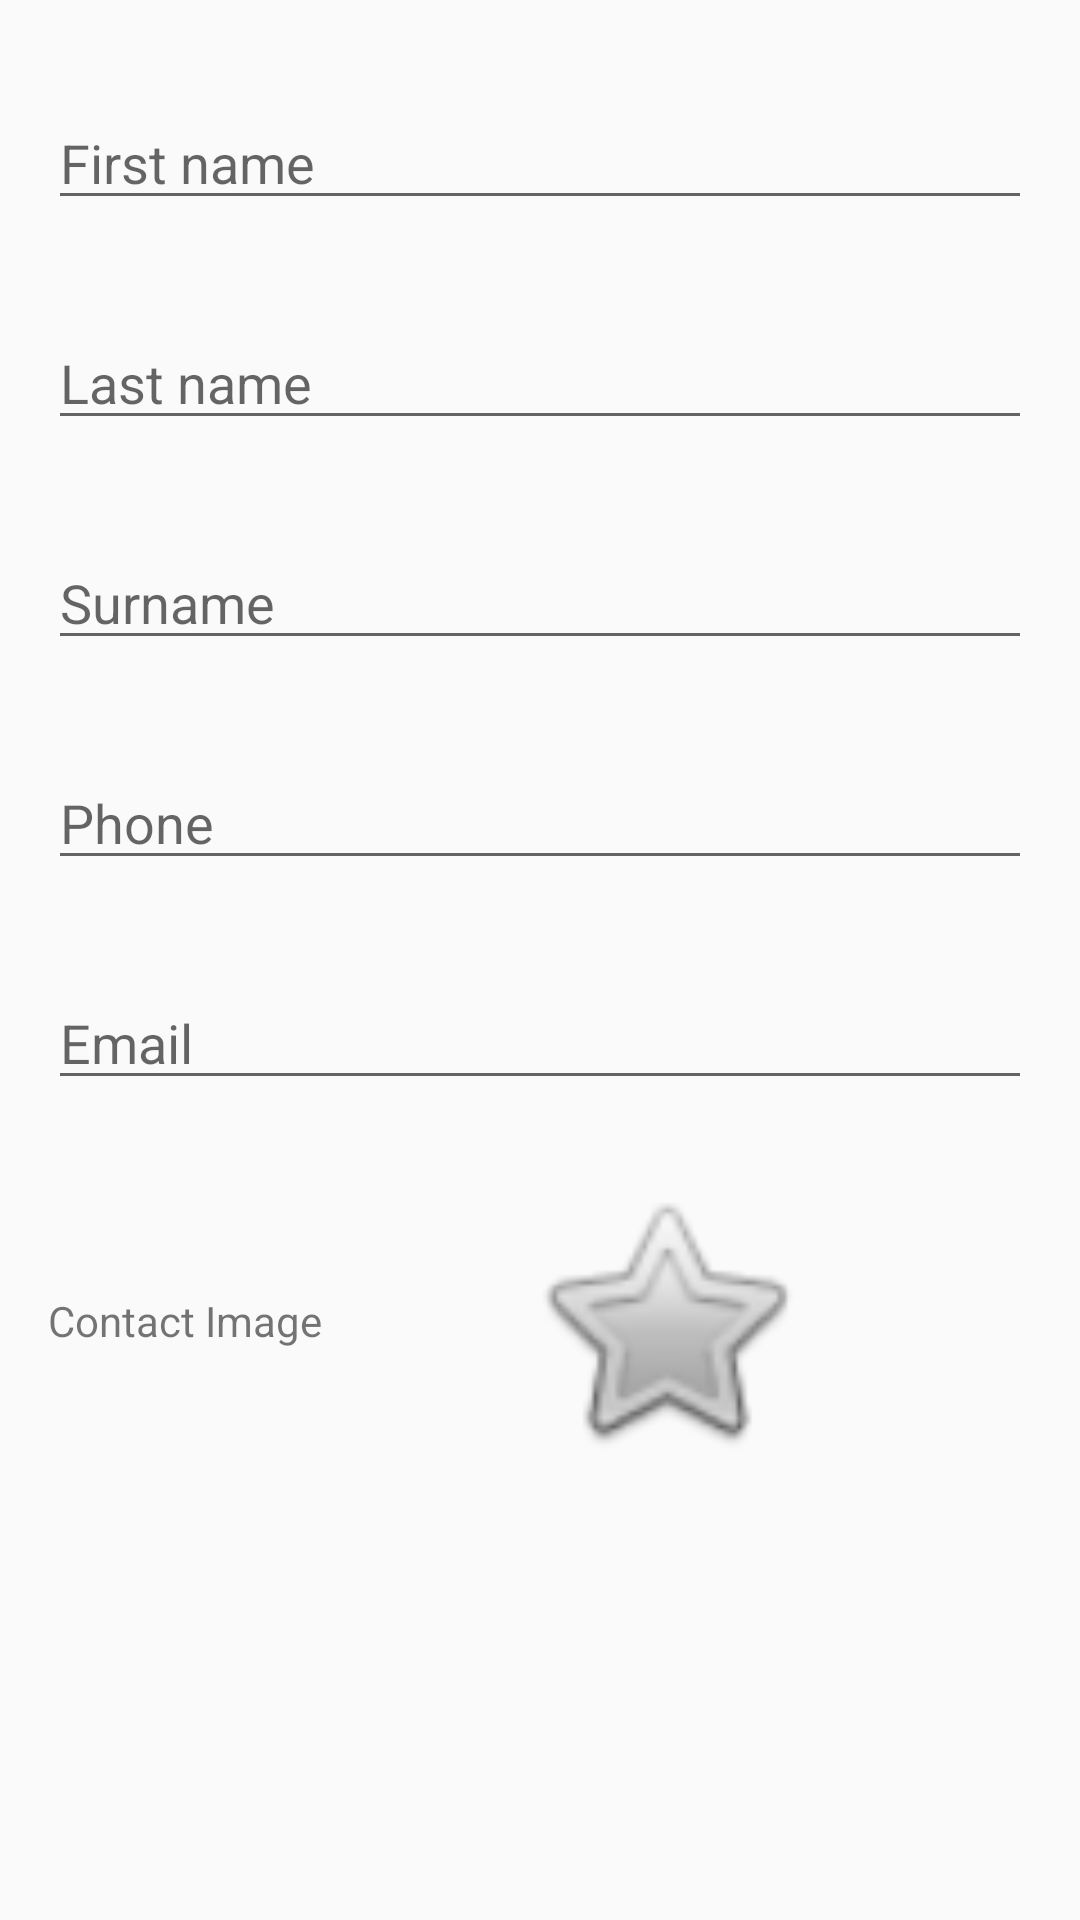

Icon click points for this 1080*1920 phone screenshot, format point (x, y):
star: point (667, 1323)
